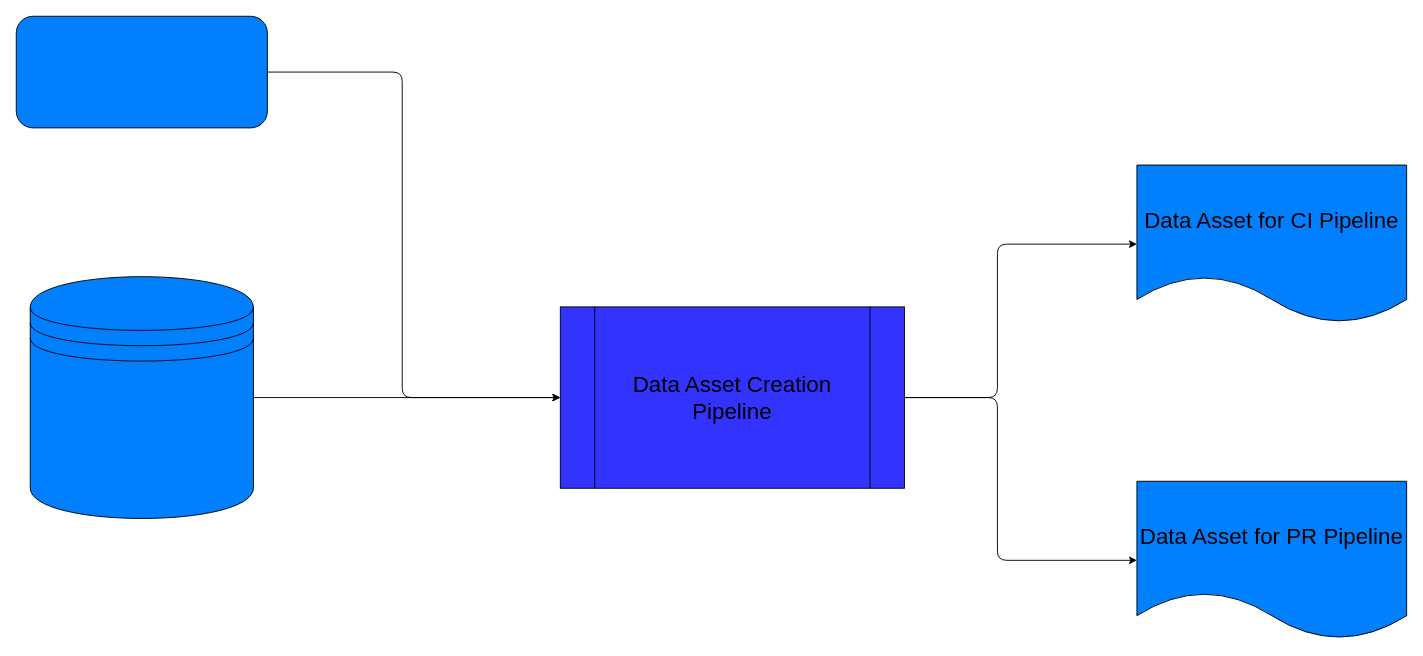
This 1423x656 diagram has some shape labels left out. Here are the shapes that lost their labels. From the top down, the box of each, then its label:
(15, 15, 267, 128): Experiment Configuration
(29, 276, 253, 518): GitHub Repository
